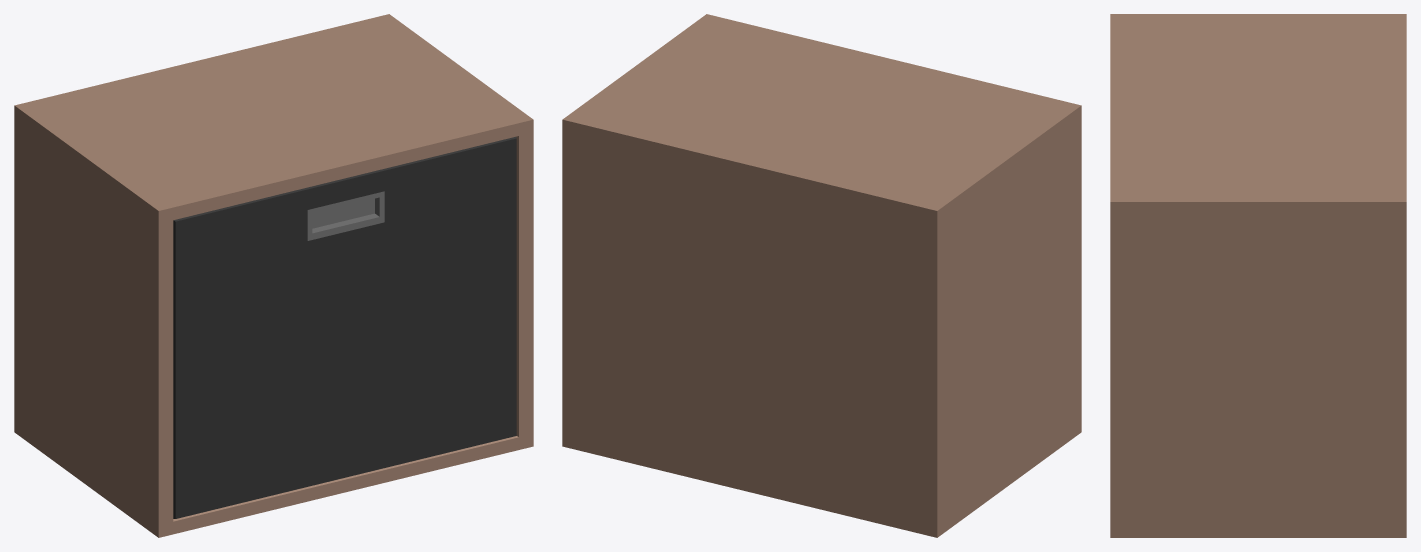
3 renders of one model, left to right at view 1: azimuth 30°, elevation 25°; view 2: azimuth 150°, elevation 25°; view 3: azimuth 270°, elevation 25°, orthographic. The views are drawn at different scales.
Parts seen in each view (by area): view 1: Cube; view 2: Cube; view 3: Cube.
Boxes of the visible parts, left/top/right/bottom form: Cube: left=14, top=14, right=533, bottom=537; Cube: left=562, top=14, right=1081, bottom=537; Cube: left=1110, top=14, right=1406, bottom=537.
Bounding box in the file's own units: 120 × 100 × 80.
